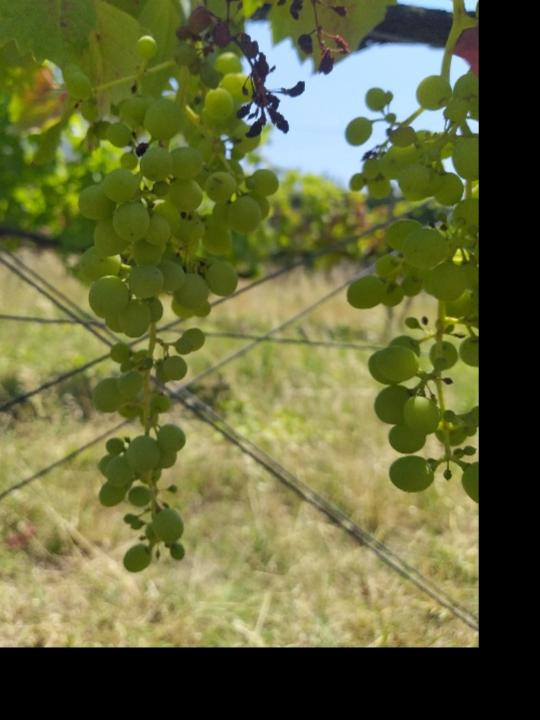grape: (55, 32, 285, 582), (171, 0, 357, 139)
